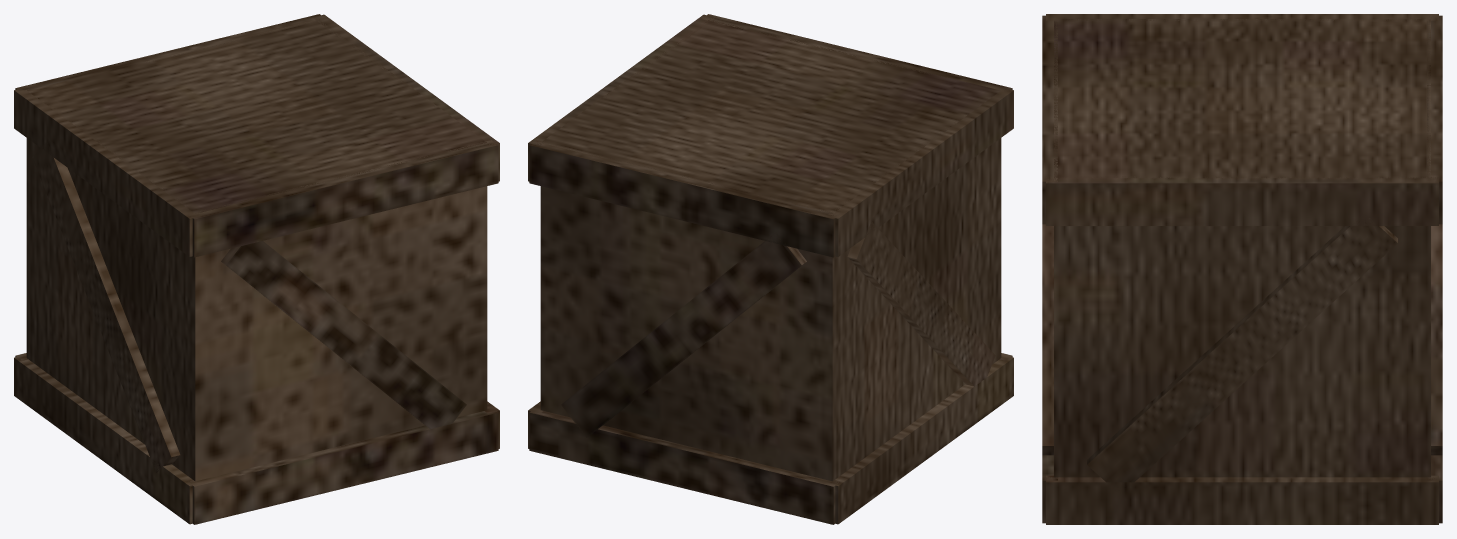
Rendered from crate.glb.
3 renders of one model, left to right at view 1: azimuth 30°, elevation 25°; view 2: azimuth 150°, elevation 25°; view 3: azimuth 270°, elevation 25°, orthographic. The views are drawn at different scales.
Parts seen in each view (by area): view 1: Main; view 2: Main; view 3: Main.
Part boxes in pixels (box(x1,y1,x2,y2)): Main: box(14, 14, 499, 524); Main: box(528, 14, 1013, 524); Main: box(1042, 14, 1442, 524).
Bounding box in the file's own units: 1.02 × 0.96 × 1.02.
Materials: 1 (1 with a texture image).
